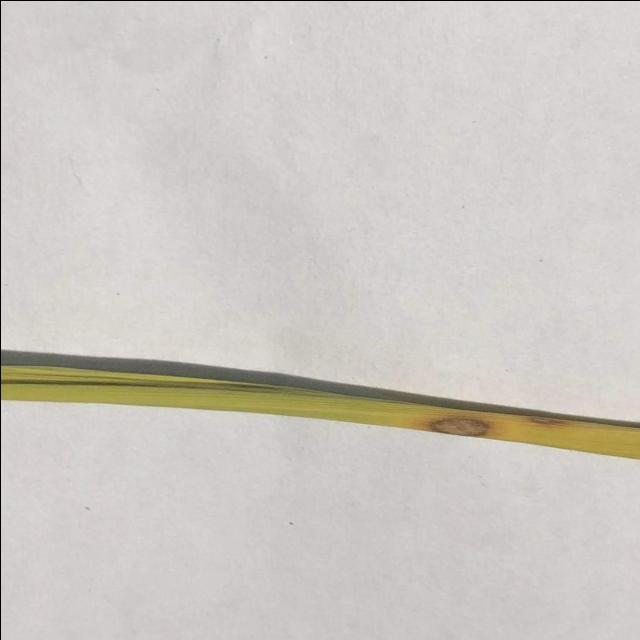Leaf blast: (0, 287, 640, 526)
